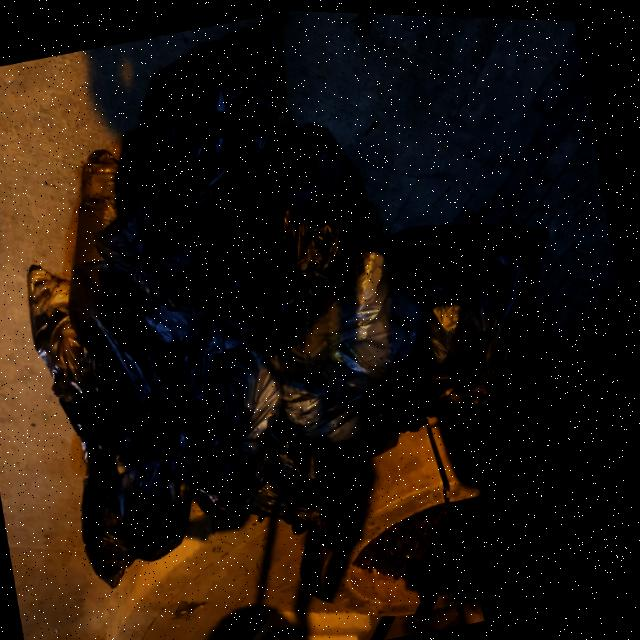Mixed Waste -Black Bag-: (45, 3, 359, 354), (43, 170, 282, 434), (363, 190, 593, 436), (213, 114, 403, 356), (13, 236, 194, 474), (244, 207, 441, 413), (65, 415, 223, 594), (234, 408, 355, 550), (274, 343, 410, 468), (184, 408, 308, 521)
